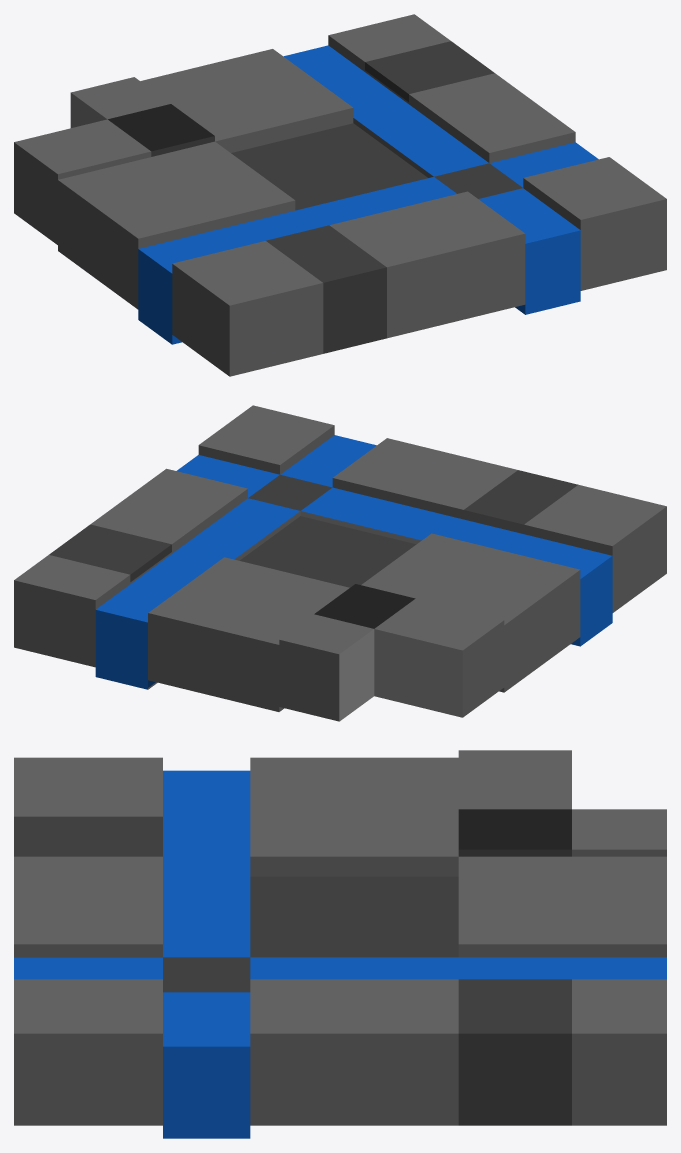
Rendered from PlataformaRocosa.fbx.
3 renders of one model, top to bottom at view 1: azimuth 30°, elevation 25°; view 2: azimuth 150°, elevation 25°; view 3: azimuth 270°, elevation 25°, orthographic. The views are drawn at different scales.
Visible parts, largest first — view 1: Plataforma; view 2: Plataforma; view 3: Plataforma.
Part boxes in pixels (x1,y1,x2,y2): Plataforma: (14, 14, 666, 376); Plataforma: (14, 405, 666, 721); Plataforma: (14, 750, 666, 1138).
Size of the model in its own units: 295 by 59.5 by 295.
1 material, 1 textured.
